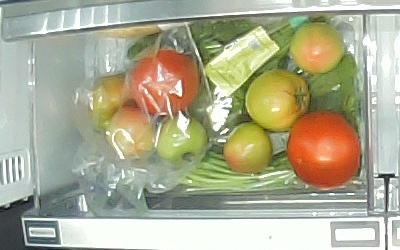tomato: (287, 111, 361, 187), (245, 68, 310, 132), (290, 22, 344, 73), (223, 122, 272, 174)
tomato_vinyl: (130, 49, 200, 114), (156, 116, 207, 166), (108, 107, 156, 158)
